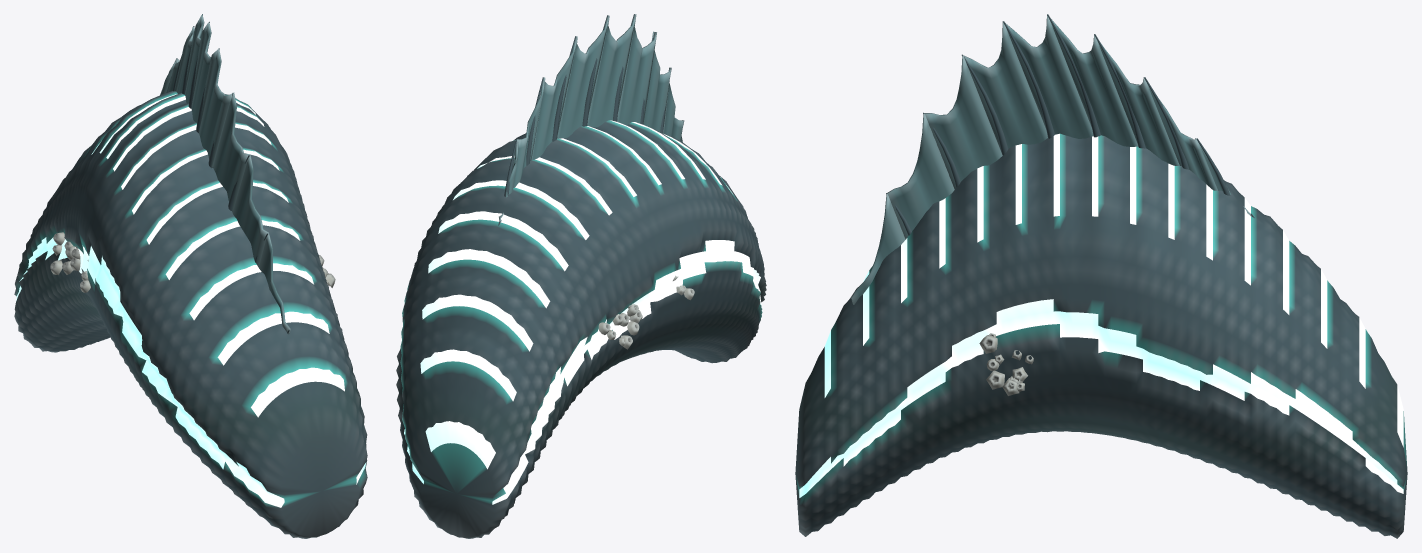
File: enemy_leviathan_coil.glb
The picture shows the model from 3 angles, left to right: view 1: azimuth 30°, elevation 25°; view 2: azimuth 150°, elevation 25°; view 3: azimuth 270°, elevation 25°; orthographic projection. The views are drawn at different scales.
Visible parts, largest first — view 1: LeviathanCoilMesh; view 2: LeviathanCoilMesh; view 3: LeviathanCoilMesh.
Part boxes in pixels (x1,y1,x2,y2): LeviathanCoilMesh: (14, 14, 367, 538); LeviathanCoilMesh: (396, 14, 766, 538); LeviathanCoilMesh: (795, 14, 1407, 538).
Size of the model in its own units: 2.56 by 4.41 by 4.76.
